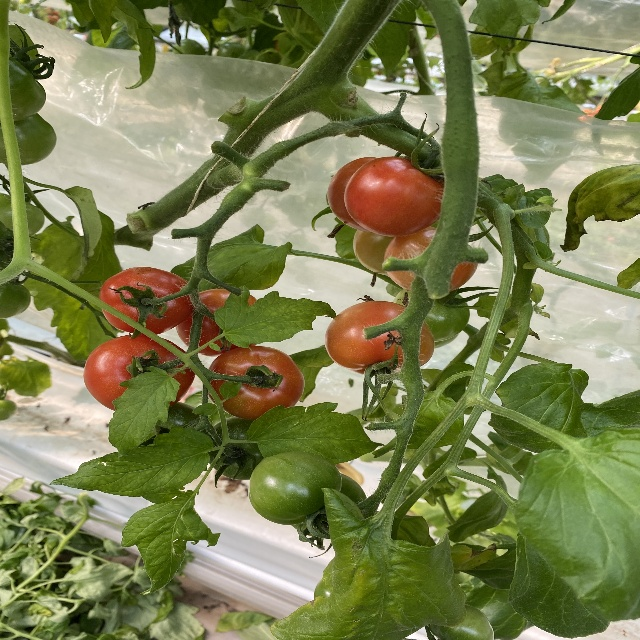l_fully_ripened: (324, 300, 438, 376), (84, 335, 195, 413), (344, 156, 445, 237), (98, 266, 201, 334), (176, 290, 262, 357)
l_green: (248, 452, 344, 526), (206, 417, 267, 480)
l_half_ripened: (205, 344, 306, 420), (383, 226, 479, 293)
